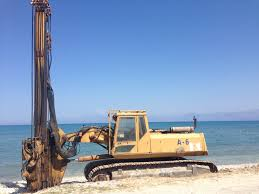excavator: (23, 2, 222, 187)
